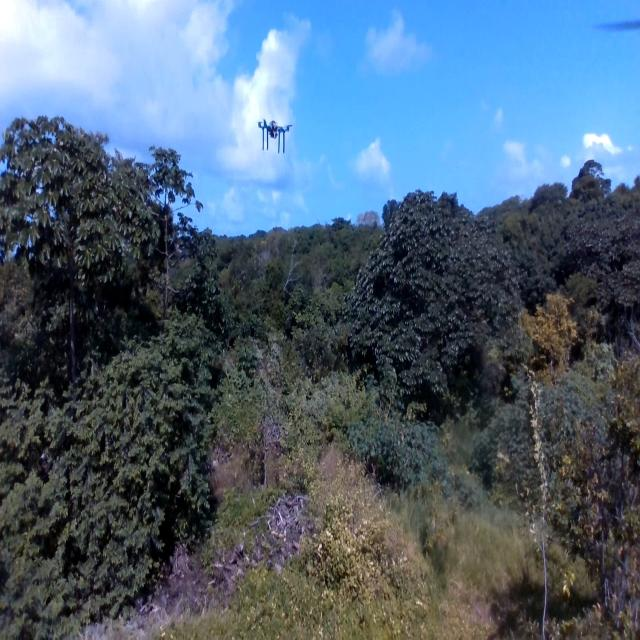-uav-: (253, 107, 295, 163)
